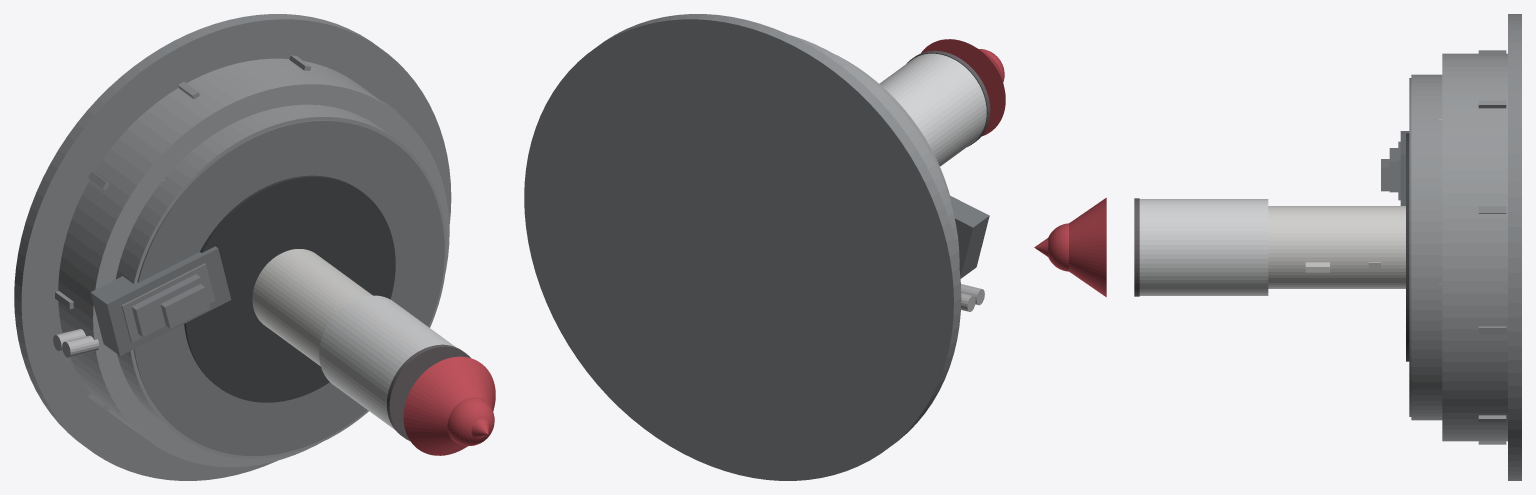
Rendered from missile_silo.glb.
3 views of the same model, side by side, from view 1: azimuth 30°, elevation 25°; view 2: azimuth 150°, elevation 25°; view 3: azimuth 270°, elevation 25° (orthographic). The views are drawn at different scales.
Visible parts, largest first — view 1: world; view 2: world; view 3: world.
Boxes of the visible parts, x1,y1,x2,y2 form: world: (14,14,495,480); world: (524,14,1005,480); world: (1034,14,1521,480).
Size of the model in its own units: 2.7 by 2.7 by 2.82.
